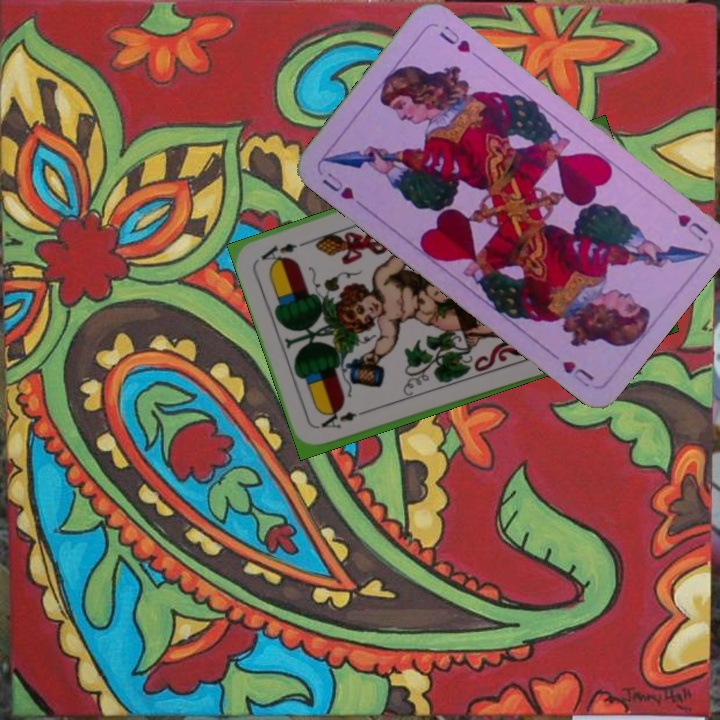EA: (316, 405, 372, 431)
HU: (318, 168, 357, 203), (673, 210, 711, 244)
